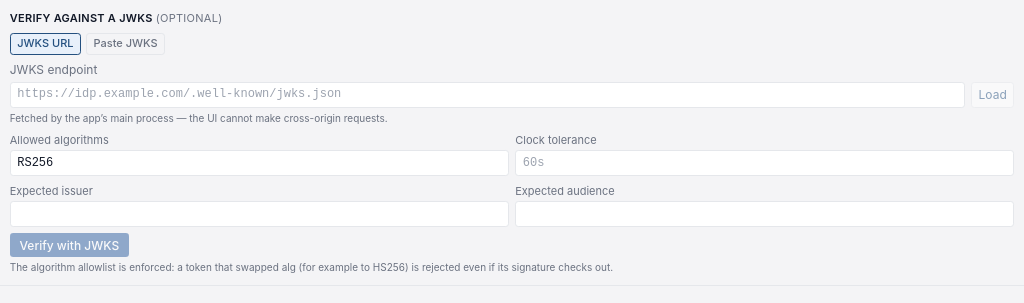
Test case: a failed key-set fetch is reported as a fetch failure (JWT-1) › renders the error beside Load and NOT as a signature verdict
Type "https://idp.example.test/.well-known/jwks.json" into the field labelled "JWKS endpoint" at (487, 95), box [10,82,965,108]
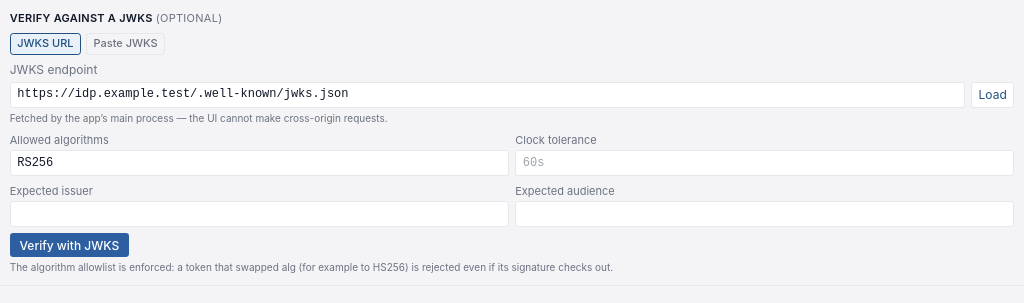
Click the button "Load" at (993, 95), box [971,82,1014,108]
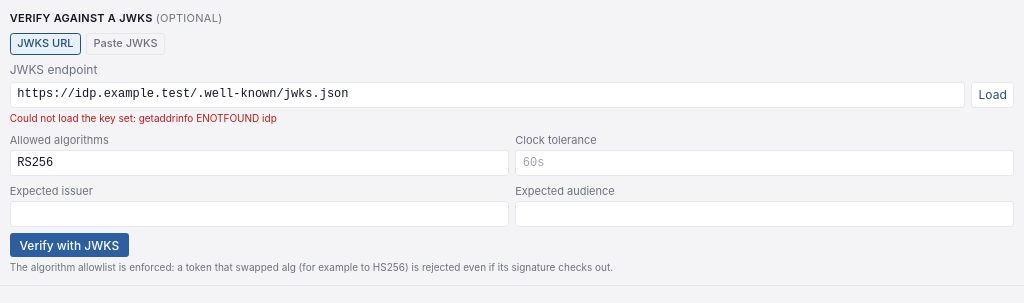
Expected: the message shows "Could not load the key set", [10,112,133,124]
Expected: the message shows "ENOTFOUND", [139,112,277,124]
